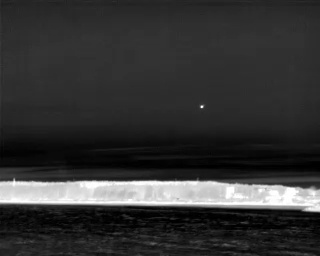HELICOPTER: (197, 102, 207, 113)
